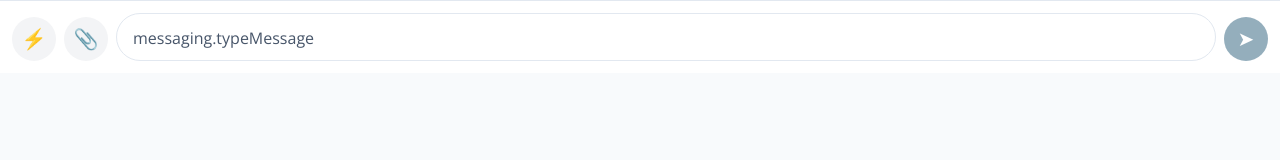
MessageInput › Quick Replies › inserts quick reply content when selected
Click the button named "quick": (34, 39) [12, 17, 56, 61]
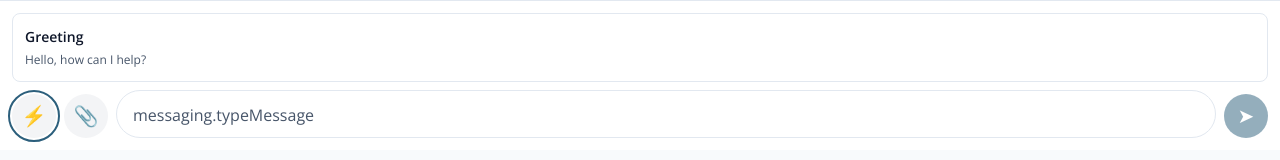
Click the text "Greeting": (54, 36) [25, 26, 83, 47]
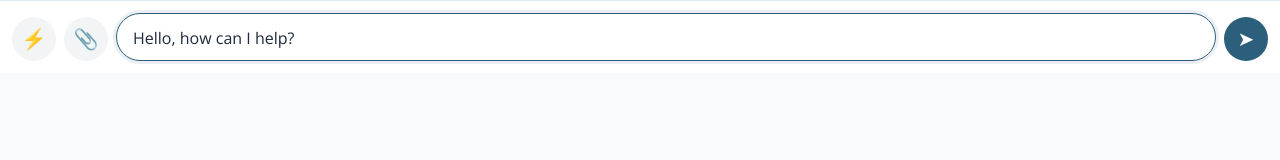
Expected: the text box holds "Hello, how can I help?", [116, 13, 1216, 61]
